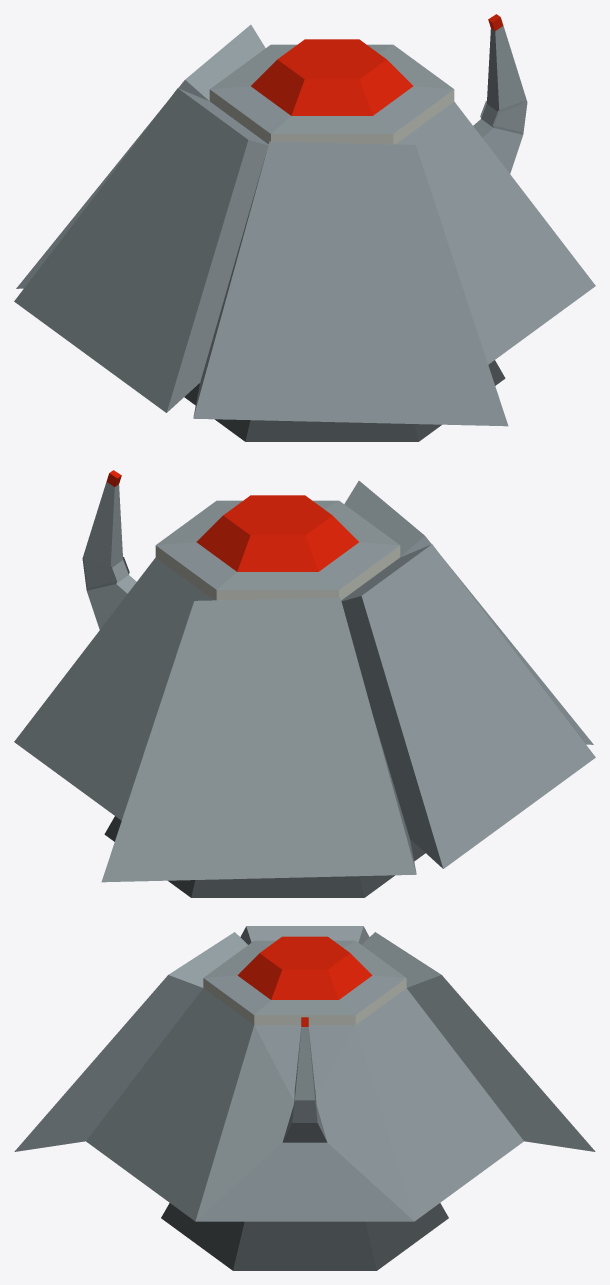
Rendered from drone.fbx.
3 renders of one model, top to bottom at view 1: azimuth 30°, elevation 25°; view 2: azimuth 150°, elevation 25°; view 3: azimuth 270°, elevation 25°, orthographic. The views are drawn at different scales.
Parts seen in each view (by area): view 1: Cylinder; view 2: Cylinder; view 3: Cylinder.
Boxes of the visible parts, left/top/right/bottom form: Cylinder: left=14, top=14, right=595, bottom=441; Cylinder: left=14, top=470, right=595, bottom=897; Cylinder: left=14, top=926, right=595, bottom=1270.
Bounding box in the file's own units: 4.15 × 5.73 × 2.91.
